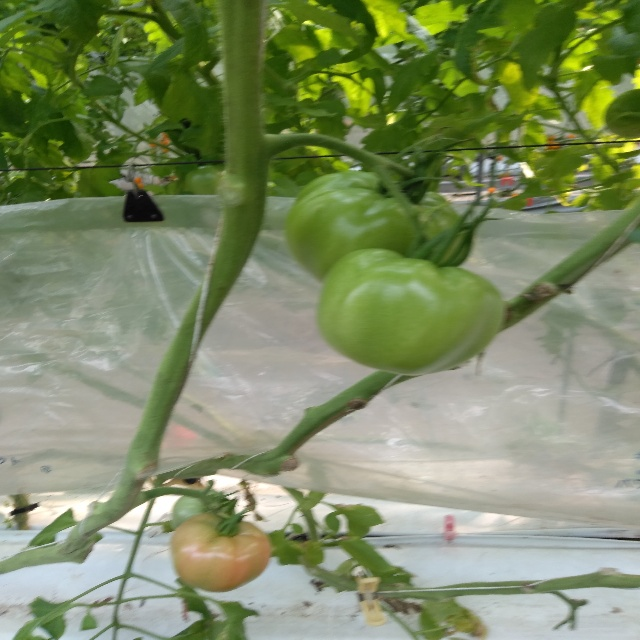b_green: (317, 248, 505, 376), (284, 170, 470, 284), (171, 489, 234, 529)
b_half_ripened: (170, 512, 271, 593)
